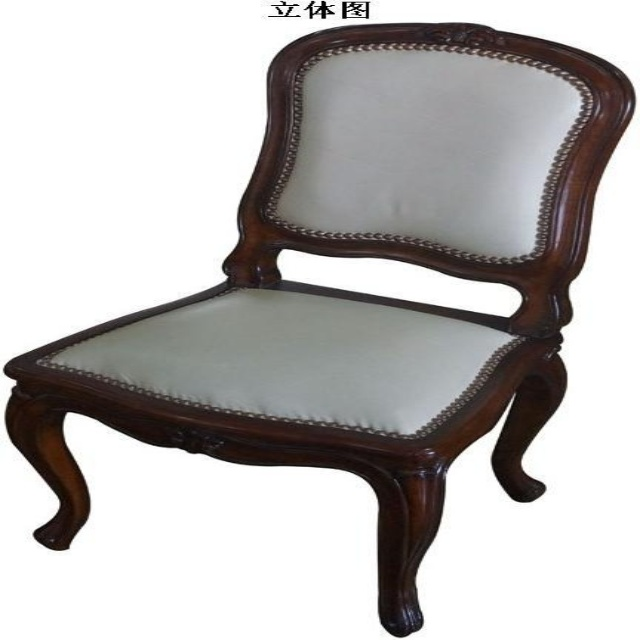obstacle: (6, 23, 631, 632)
